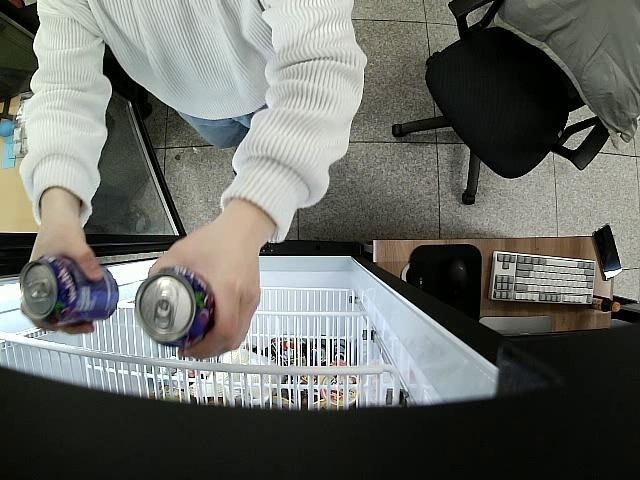14_welchsGrape: (20, 257, 120, 326), (134, 268, 215, 349)
